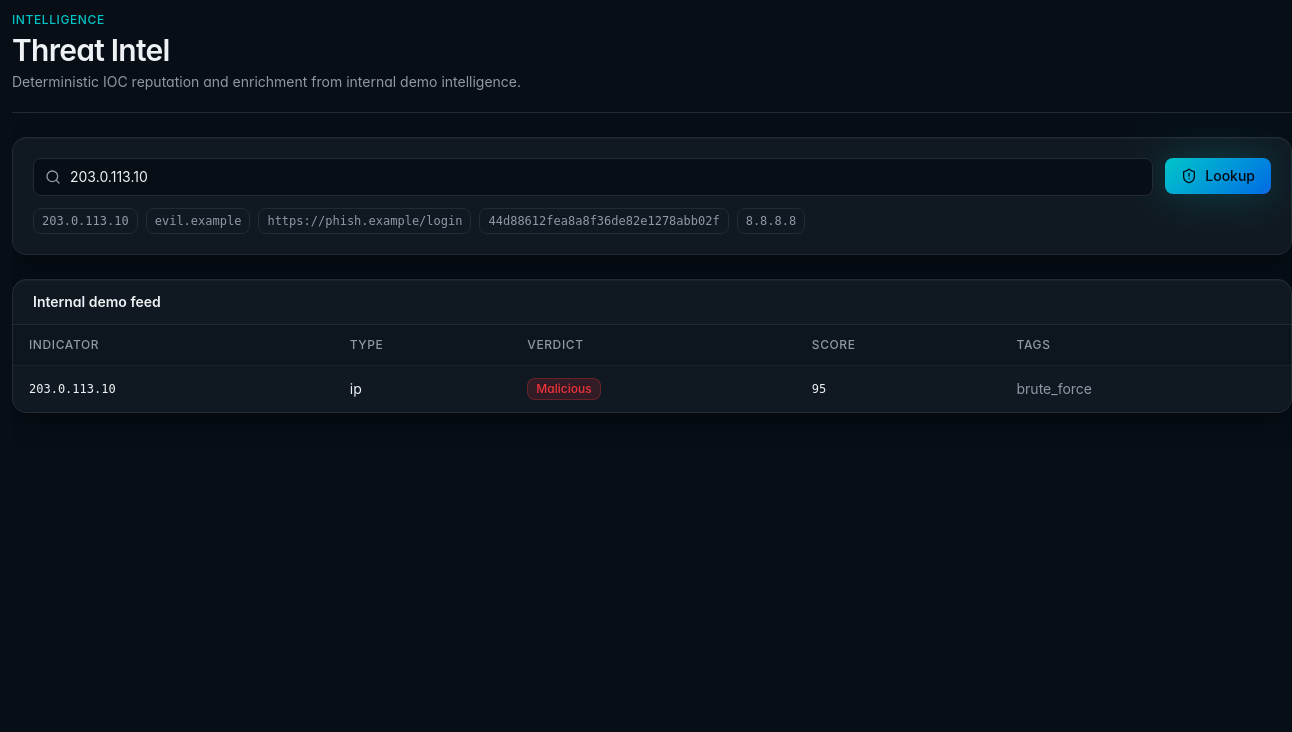
Threat intelligence UI › renders the threat intel page and lookup results
expect the element with test id "threat-intel-page" is shown: met, box [12,12,1291,413]
expect the text "Internal demo feed" is shown: met, box [13,280,1291,325]
Click the button "Lookup". click: (1218, 176)
box: [1165,158,1271,194]
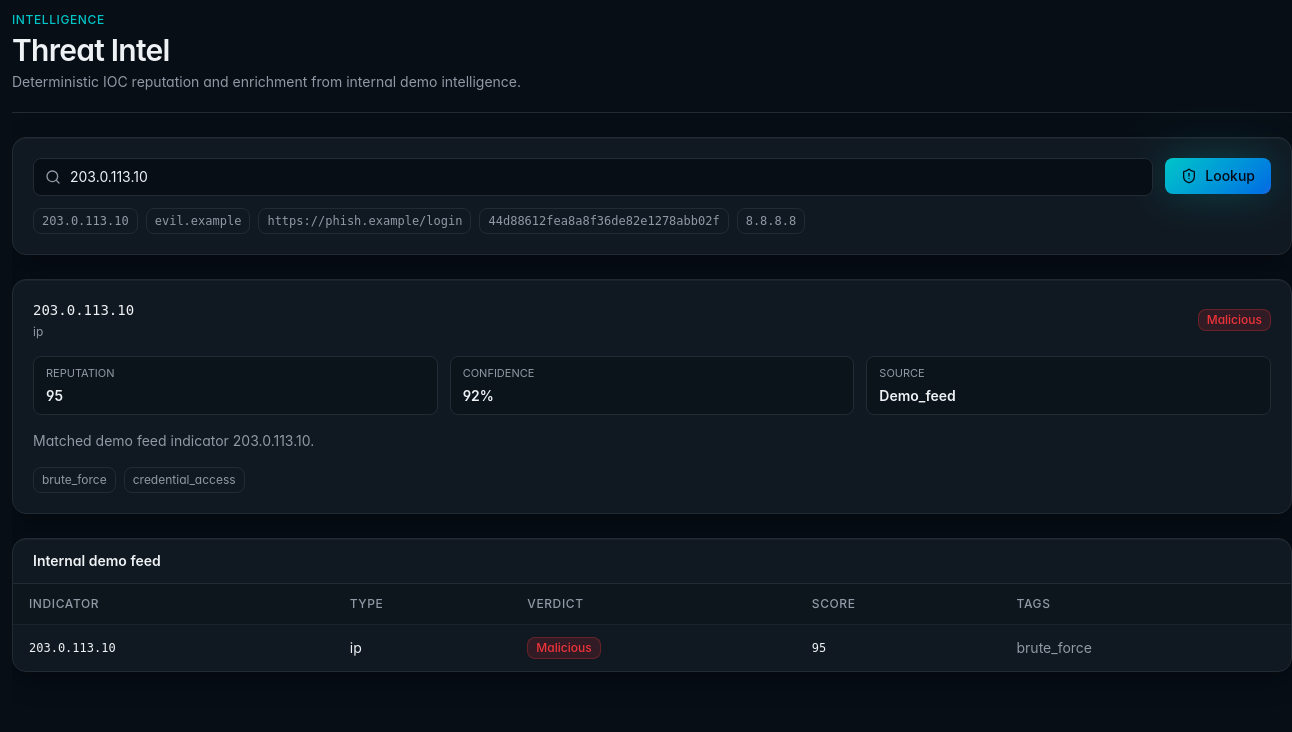
expect the element with test id "threat-intel-result-card" is shown: met, box [12,279,1291,514]
expect the 1st text with test id "threat-verdict-badge" reads "malicious": met, box [1207,312,1262,327]
